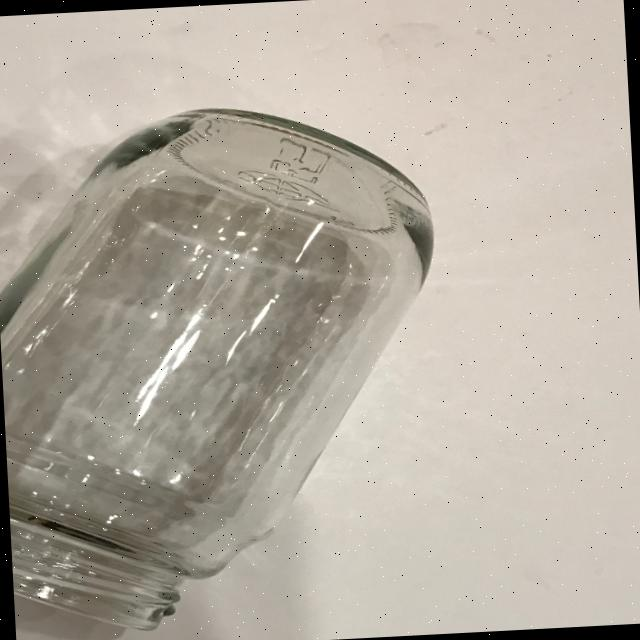glass: (0, 110, 446, 630)
